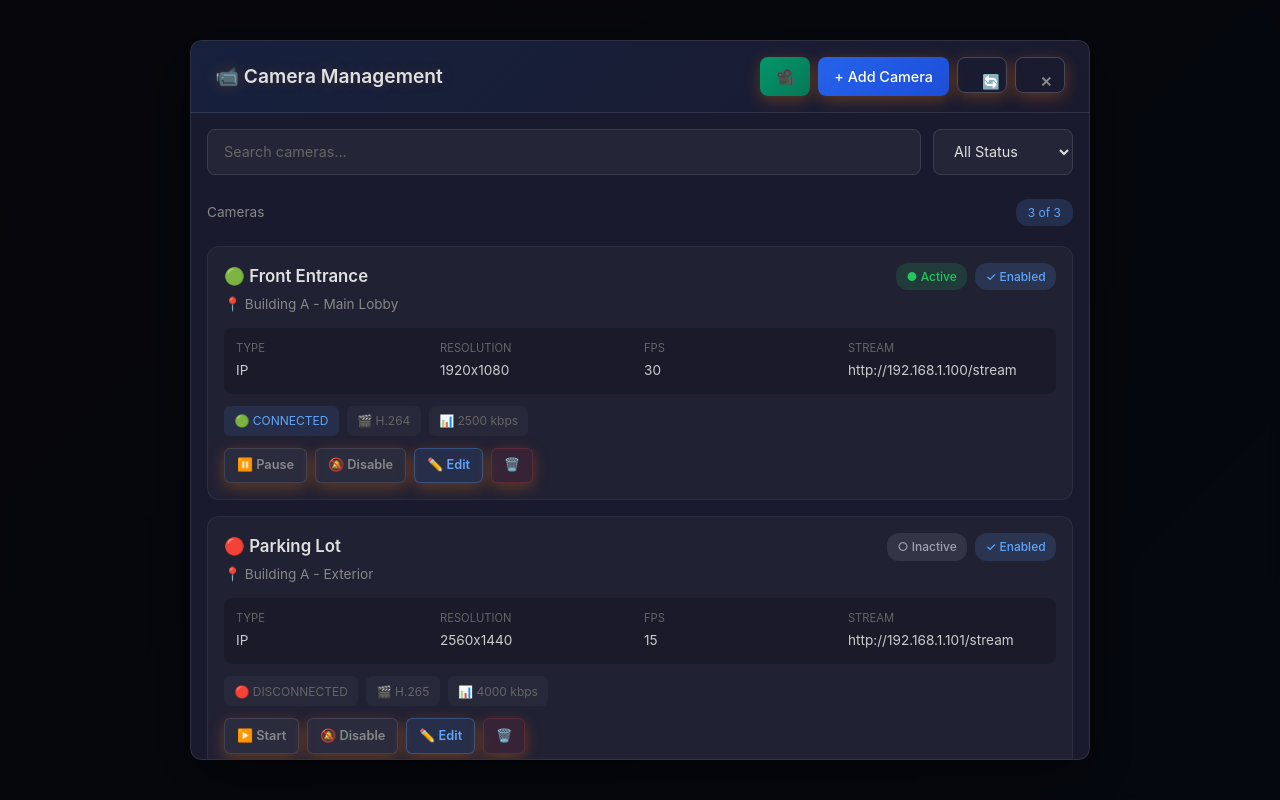
CameraManager Component › Edit Camera › opens edit form when Edit button is clicked
The width and height of the screenshot is (1280, 800).
Expected: the text "🟢 Front Entrance" is shown, x1=224 y1=266 x2=368 y2=286
What coordinates should you click on to do the following:
click the button "✏️ Edit" below "H.264"
I would click on:
 (449, 466)
Its box is x1=414 y1=448 x2=483 y2=483.
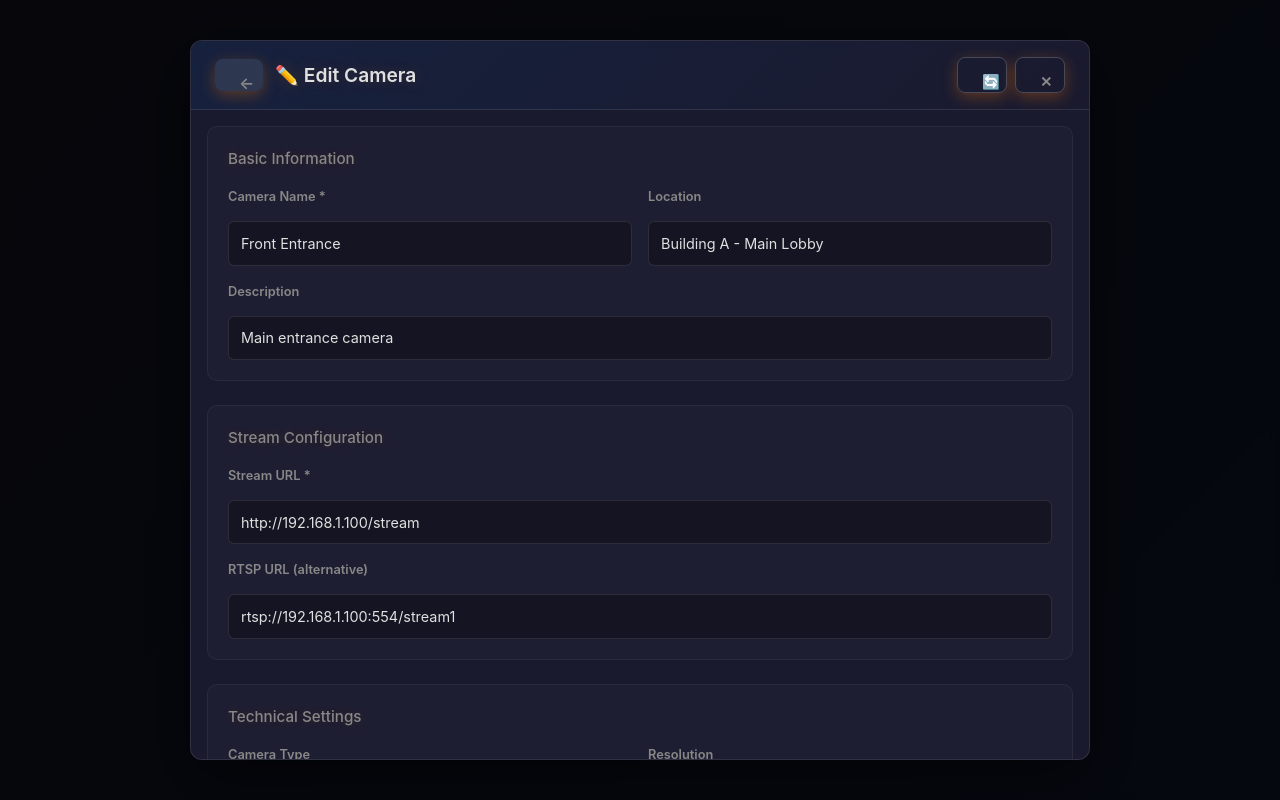
Expected: the heading "✏️ Edit Camera" is shown, x1=275 y1=60 x2=416 y2=90
Expected: the field showing "Front Entrance" below "Camera Name *" is shown, x1=228 y1=221 x2=632 y2=266
